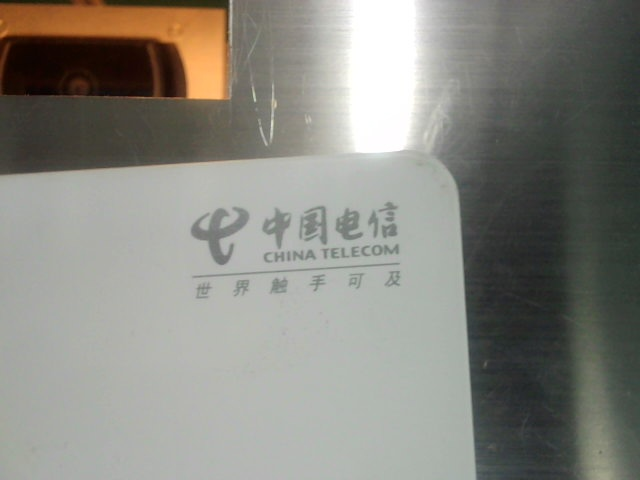AB_ChinaTelecom: (172, 196, 417, 302)
